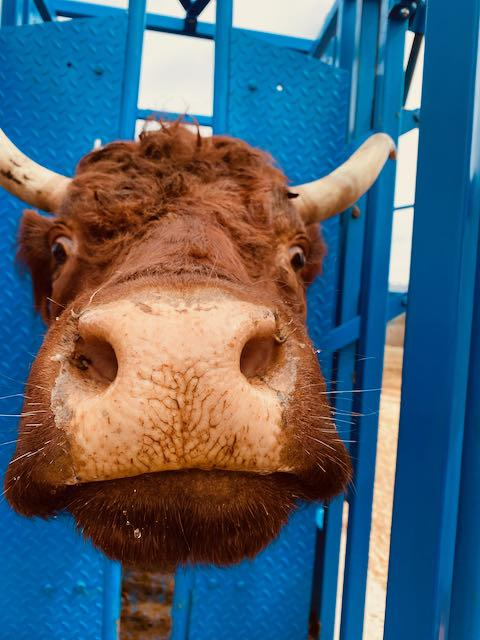muzzles: (8, 295, 357, 578)
